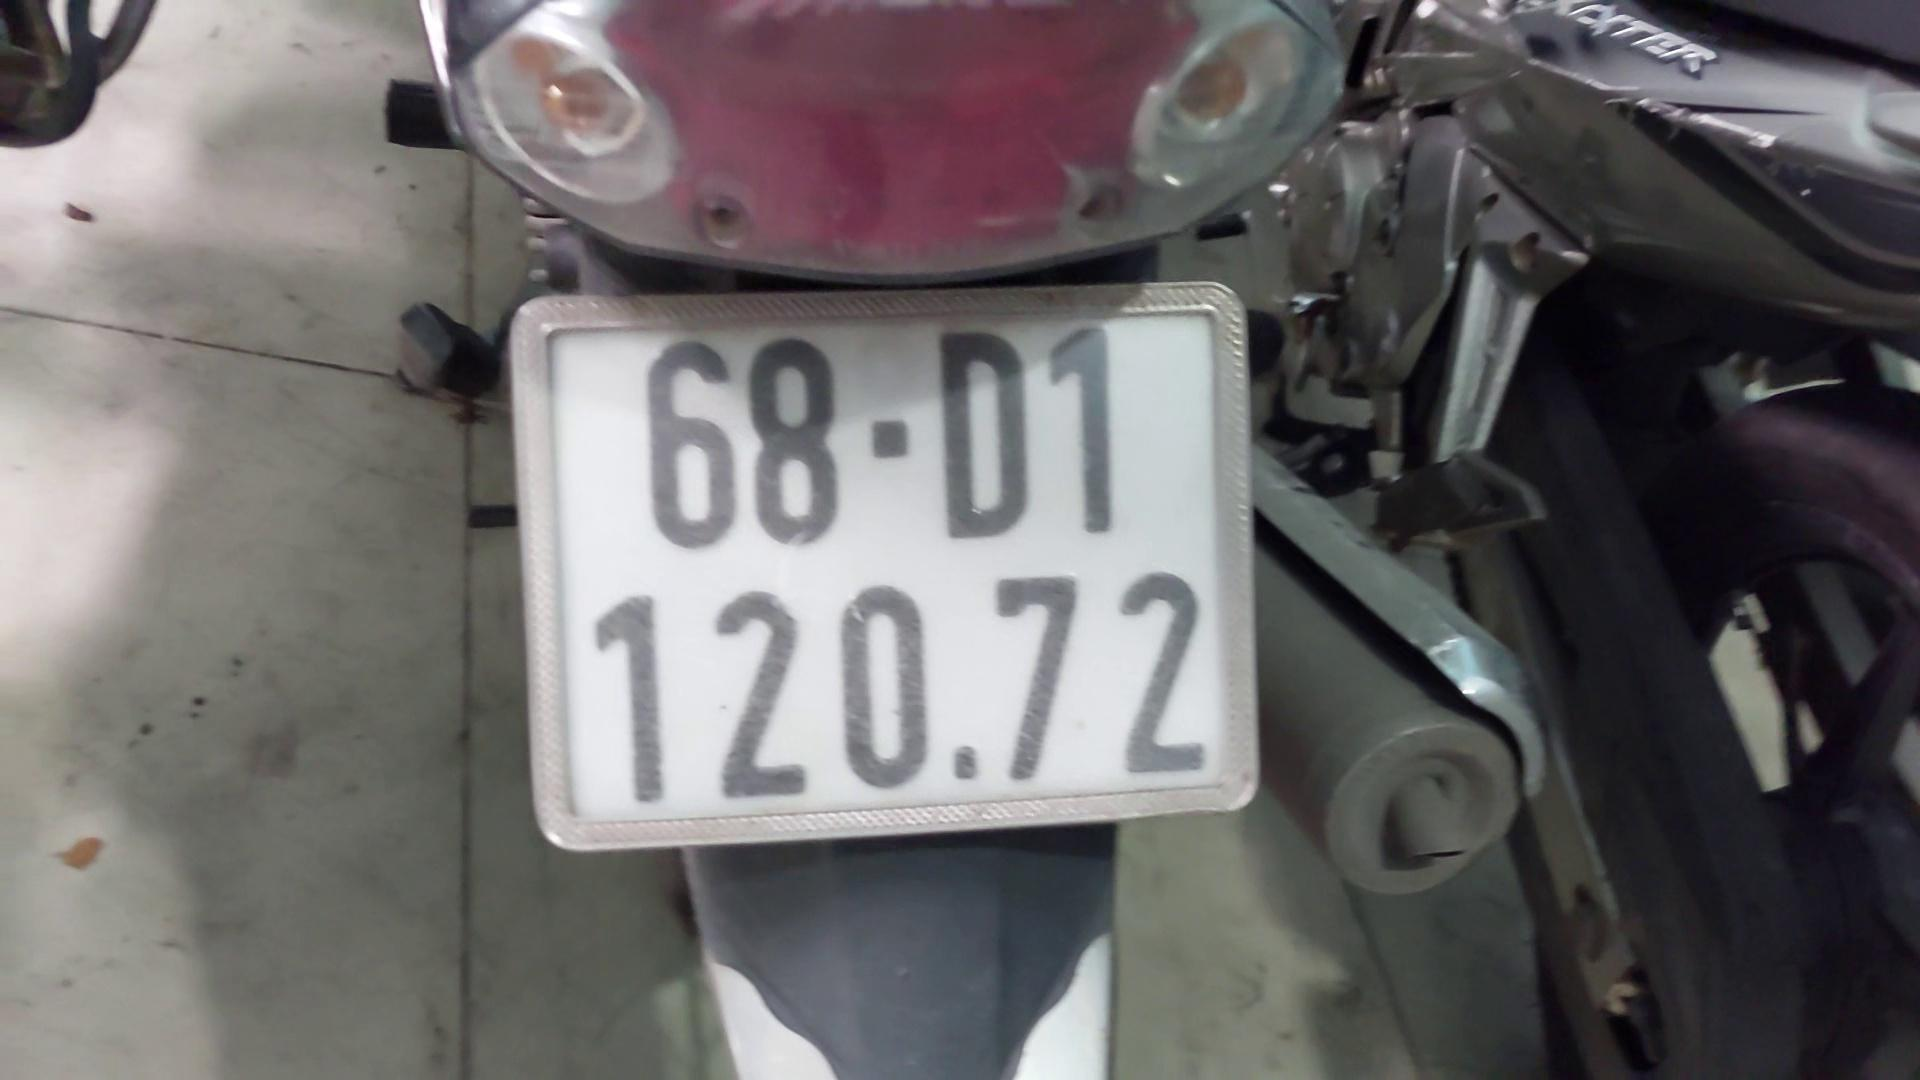numplate: (511, 298, 1252, 810)
